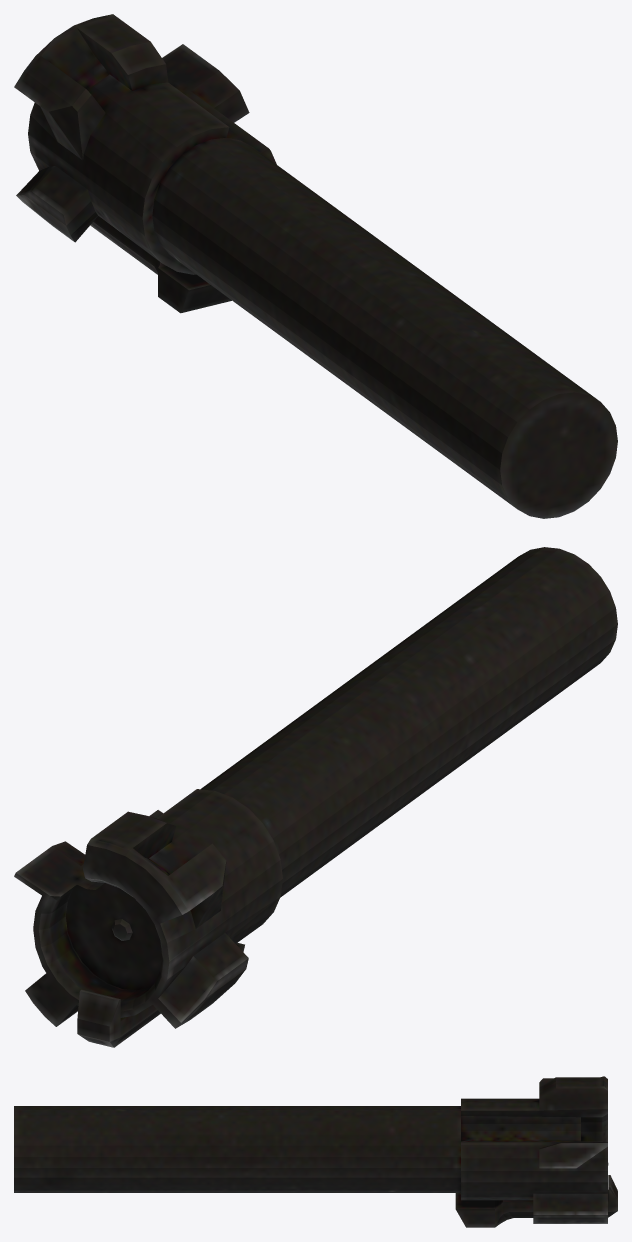
The picture shows the model from 3 angles, top to bottom: view 1: azimuth 30°, elevation 25°; view 2: azimuth 150°, elevation 25°; view 3: azimuth 270°, elevation 25°; orthographic projection. The views are drawn at different scales.
Visible parts, largest first — view 1: TW_62e14904c2699c0ec93adc47_PZ_Import; view 2: TW_62e14904c2699c0ec93adc47_PZ_Import; view 3: TW_62e14904c2699c0ec93adc47_PZ_Import.
Boxes of the visible parts, left/top/right/bottom form: TW_62e14904c2699c0ec93adc47_PZ_Import: left=14, top=14, right=617, bottom=518; TW_62e14904c2699c0ec93adc47_PZ_Import: left=14, top=547, right=617, bottom=1047; TW_62e14904c2699c0ec93adc47_PZ_Import: left=14, top=1076, right=617, bottom=1227.
Bounding box in the file's own units: 0.00957 × 0.0409 × 0.0102.
Materials: 1 (1 with a texture image).
